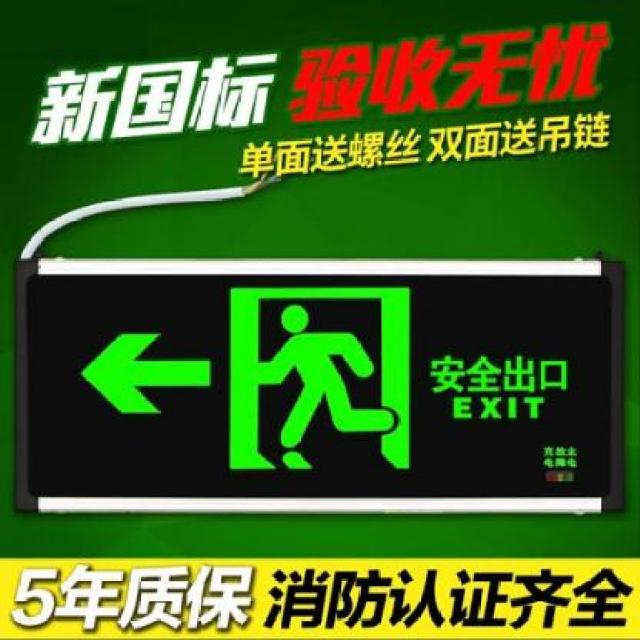exit_sign: (26, 275, 599, 498)
